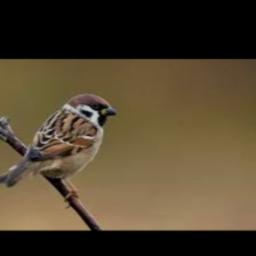Sparrow: (0, 94, 117, 204)
